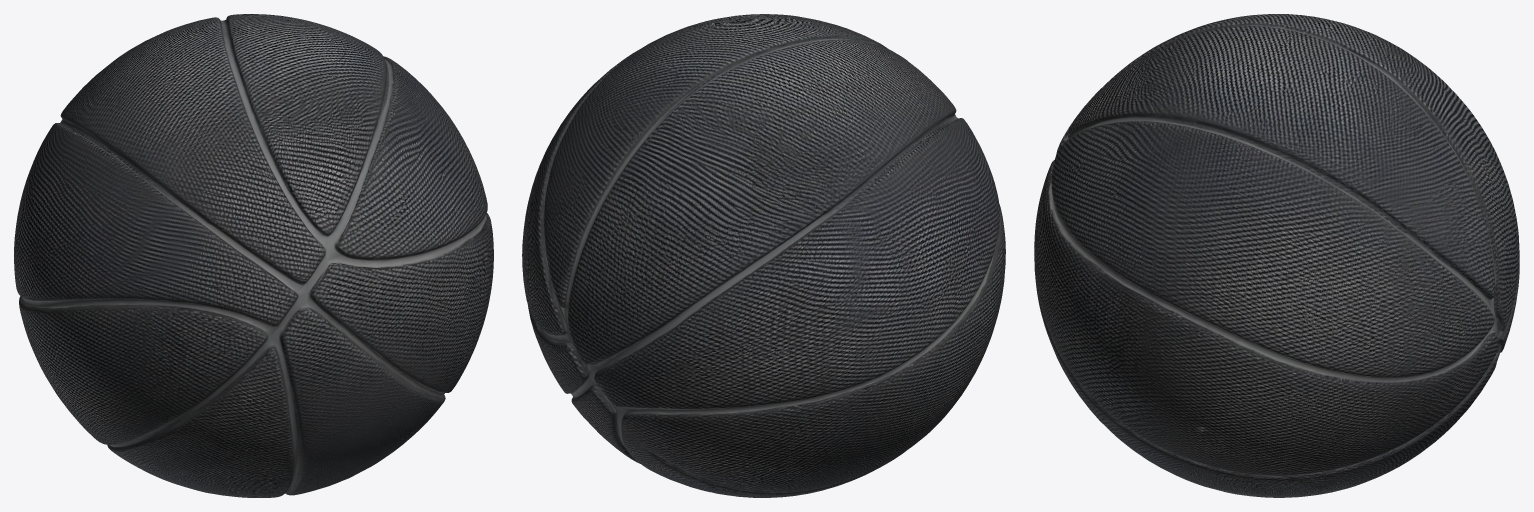
File: basketball-nera-mobile.glb
The picture shows the model from 3 angles, left to right: view 1: azimuth 30°, elevation 25°; view 2: azimuth 150°, elevation 25°; view 3: azimuth 270°, elevation 25°; orthographic projection.
Parts seen in each view (by area): view 1: node_0; view 2: node_0; view 3: node_0.
Part boxes in pixels (x1,y1,x2,y2): node_0: (14, 14, 493, 497); node_0: (522, 14, 1005, 497); node_0: (1034, 14, 1519, 497).
Bounding box in the file's own units: 1.18 × 1.19 × 1.19.
Materials: 1 (1 with a texture image).
